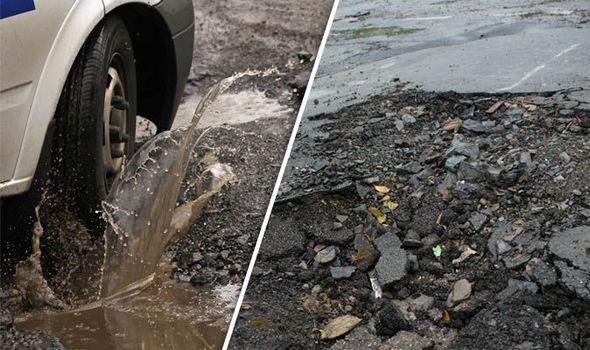Pothole: (227, 86, 589, 349), (0, 142, 247, 348), (172, 69, 303, 132)
